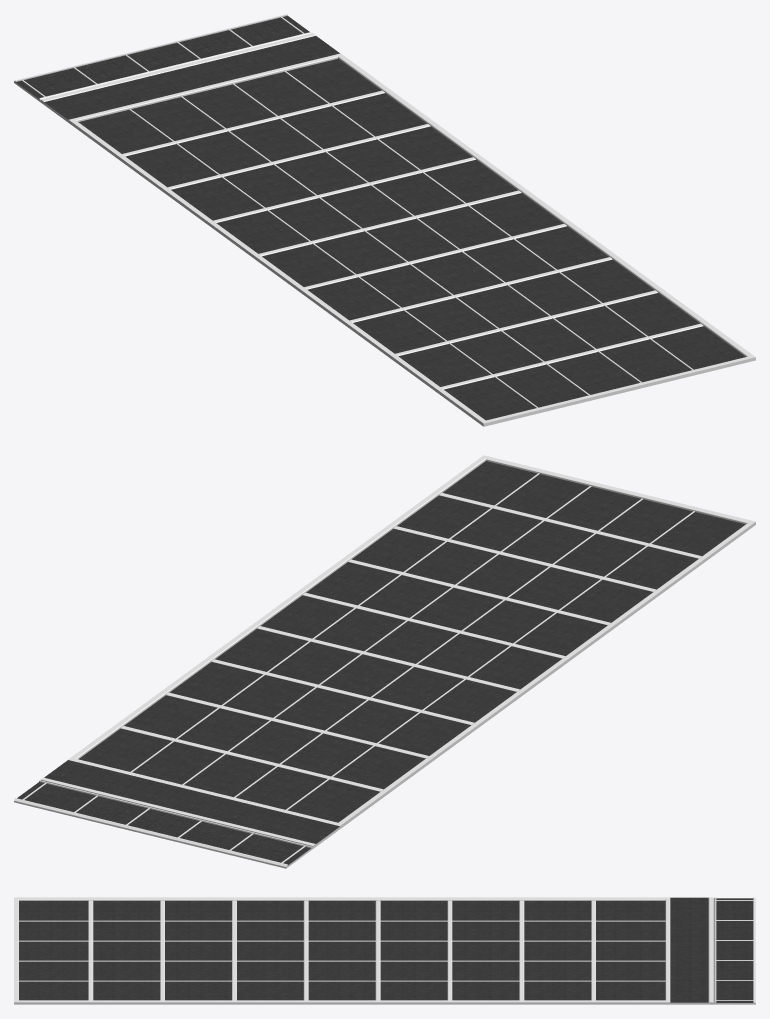
File: SM_MetalFloor.fbx
3 renders of one model, top to bottom at view 1: azimuth 30°, elevation 25°; view 2: azimuth 150°, elevation 25°; view 3: azimuth 270°, elevation 25°, orthographic. The views are drawn at different scales.
Parts seen in each view (by area): view 1: SM_MetalFloor_LOD0; view 2: SM_MetalFloor_LOD0; view 3: SM_MetalFloor_LOD0.
Part boxes in pixels (bbox=[...]): SM_MetalFloor_LOD0: bbox=[14, 14, 755, 426]; SM_MetalFloor_LOD0: bbox=[14, 455, 755, 868]; SM_MetalFloor_LOD0: bbox=[14, 897, 755, 1004].
Bounding box in the file's own units: 1000 × 2989 × 11.36.
Materials: 2 (2 with a texture image).
